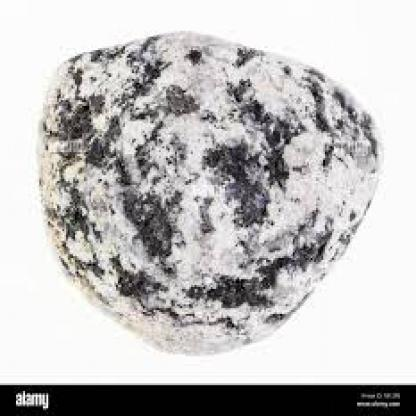Igneous_Diorite: (30, 23, 386, 353)
